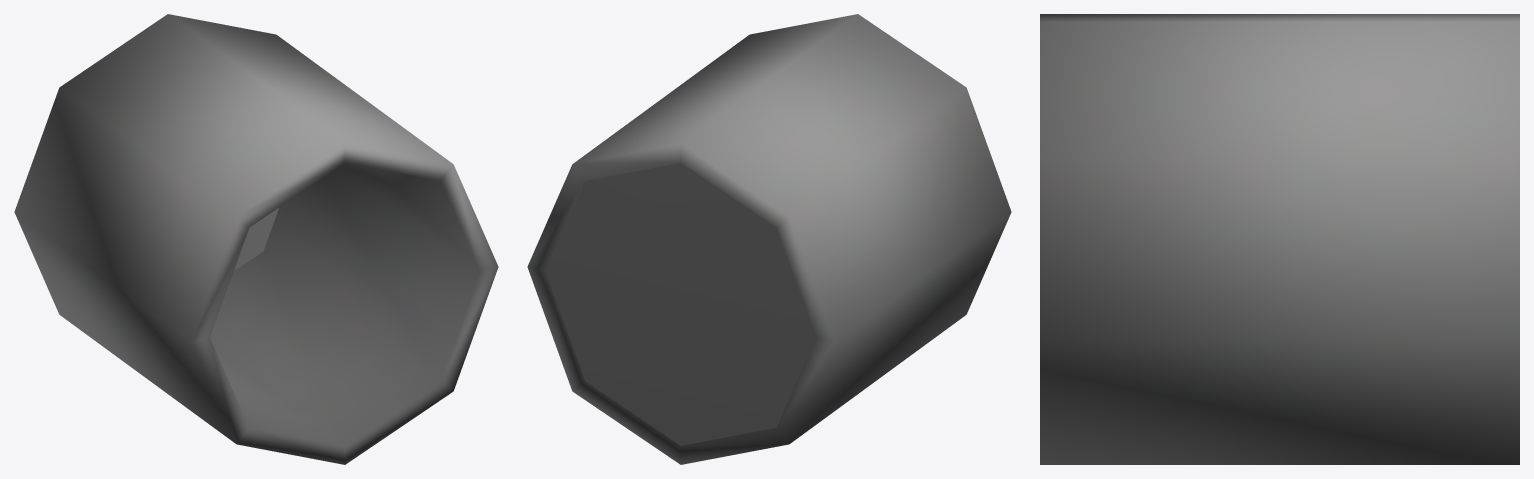
The model's file is TubeEndEng.fbx.
3 renders of one model, left to right at view 1: azimuth 30°, elevation 25°; view 2: azimuth 150°, elevation 25°; view 3: azimuth 270°, elevation 25°, orthographic. The views are drawn at different scales.
Visible parts, largest first — view 1: TubeEndEng; view 2: TubeEndEng; view 3: TubeEndEng.
Boxes of the visible parts, box(x1,y1,x2,y2) form: TubeEndEng: box(14, 14, 498, 464); TubeEndEng: box(527, 14, 1011, 464); TubeEndEng: box(1040, 14, 1519, 464).
Bounding box in the file's own units: 56.89 × 56.89 × 56.89.
1 material, 1 textured.
